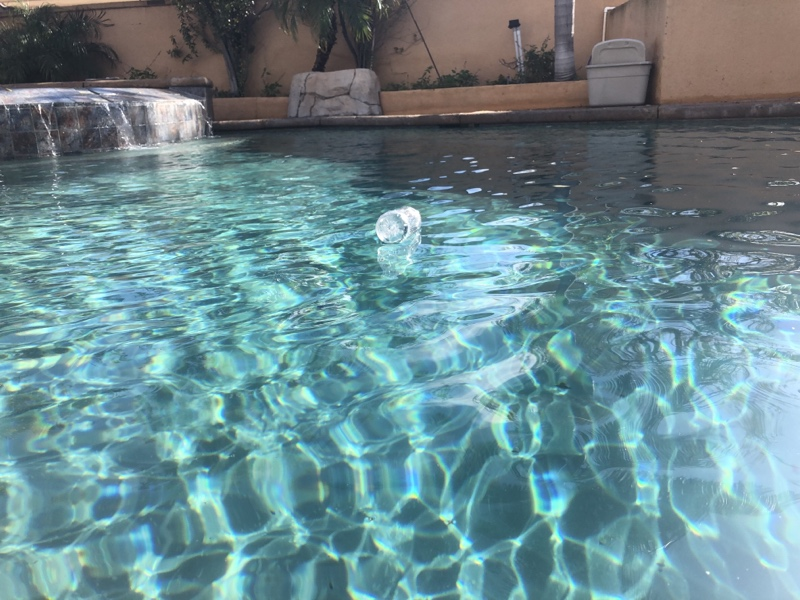Plastic Bottle: (372, 203, 425, 248)
